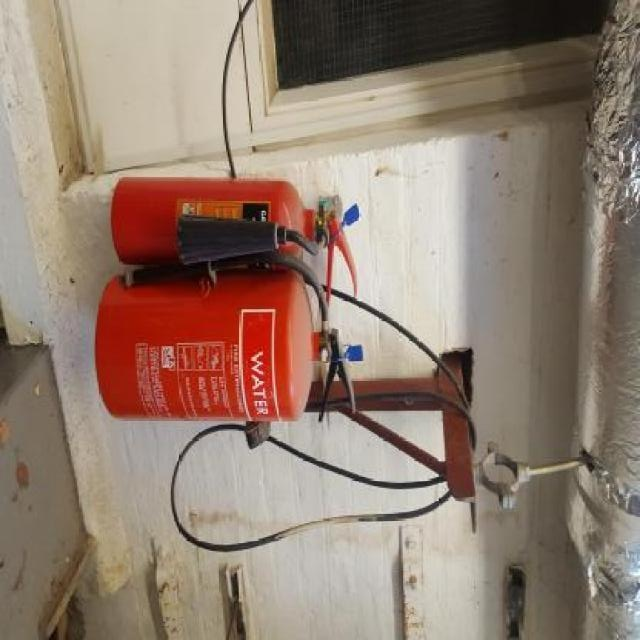fire extinguisher: (94, 252, 358, 423), (110, 175, 358, 311)
